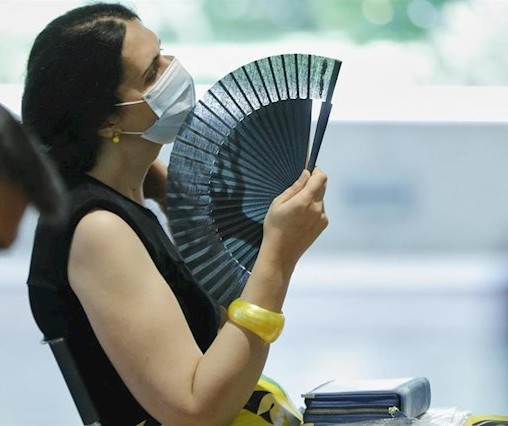with_mask: (49, 9, 202, 173)
